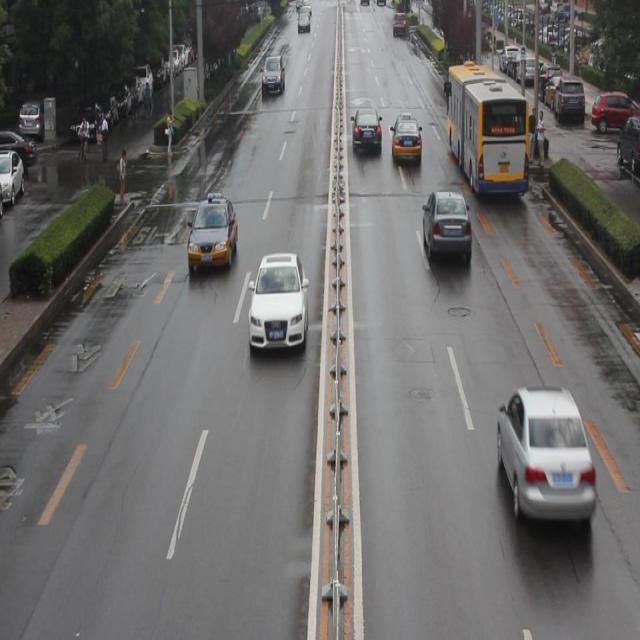car: (494, 385, 594, 529), (248, 255, 306, 355), (421, 189, 470, 266), (186, 198, 237, 268), (351, 106, 380, 158), (390, 116, 420, 166)
van: (447, 64, 529, 198)
